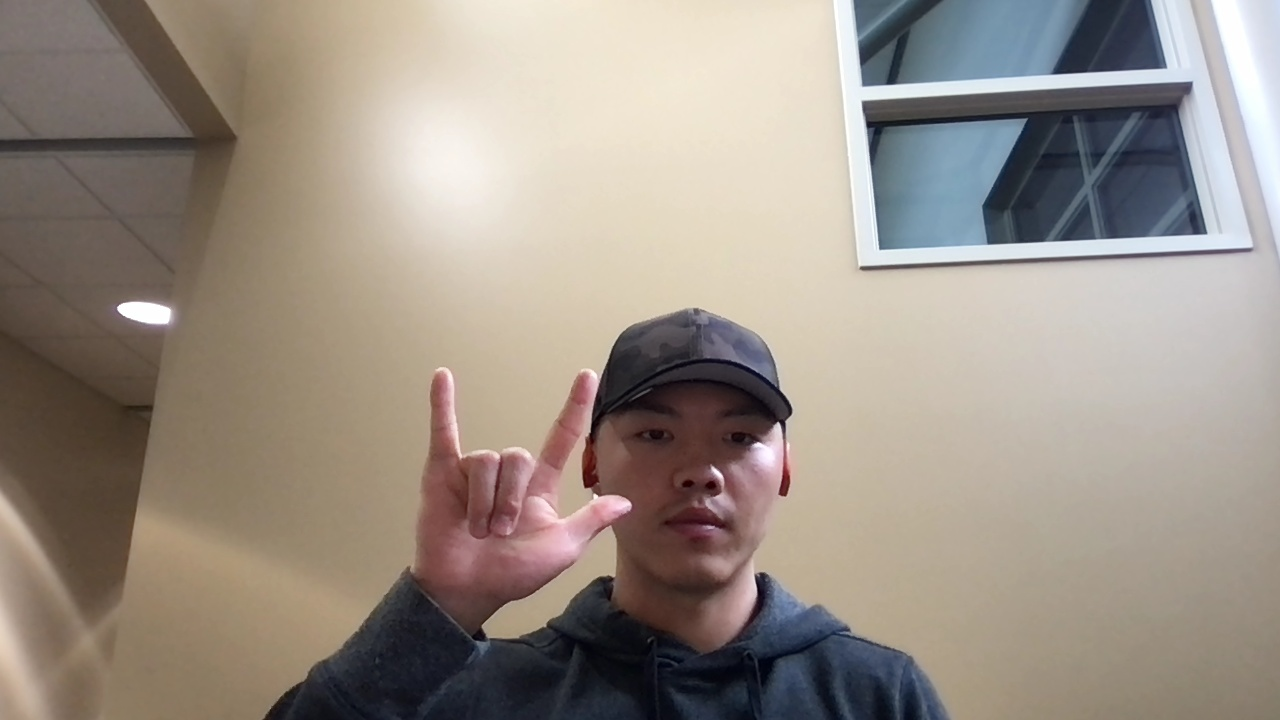I Love You: (408, 365, 633, 601)
